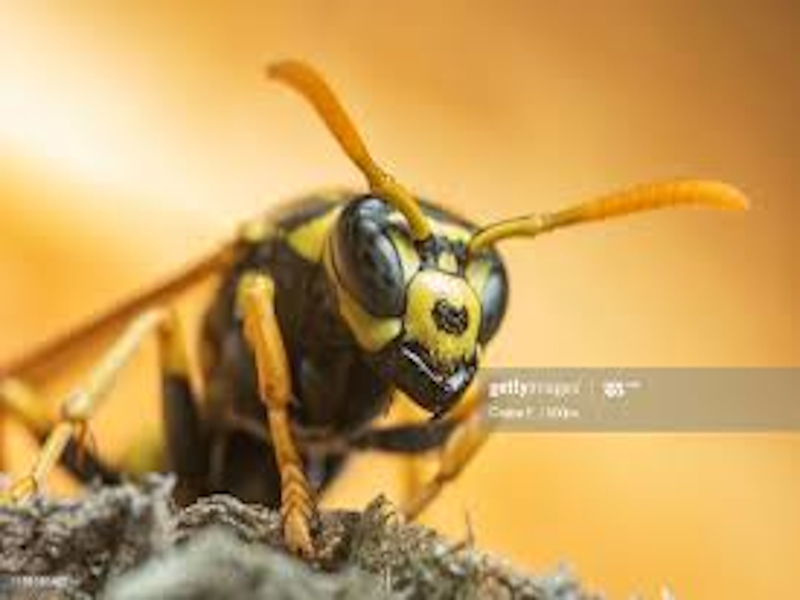chax: (1, 26, 751, 593)
